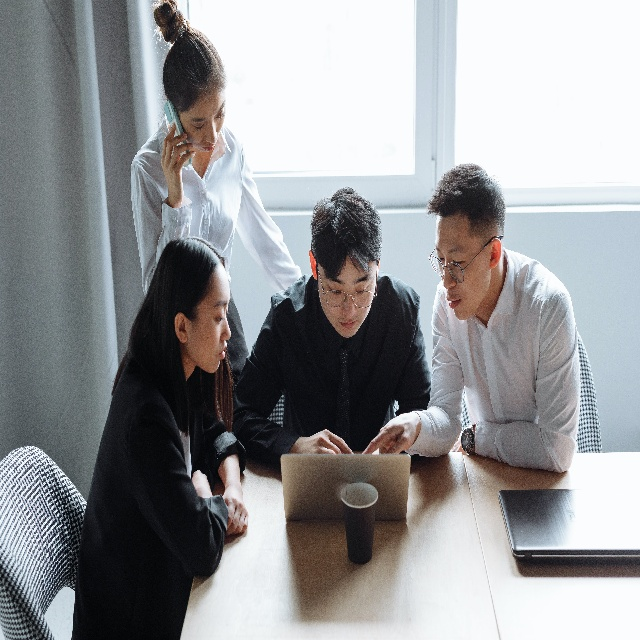Gafas: (428, 233, 505, 283), (315, 259, 379, 308)
Sin_guantes: (159, 121, 196, 205), (359, 413, 419, 456), (300, 428, 354, 456), (221, 483, 248, 538), (191, 468, 213, 499)
